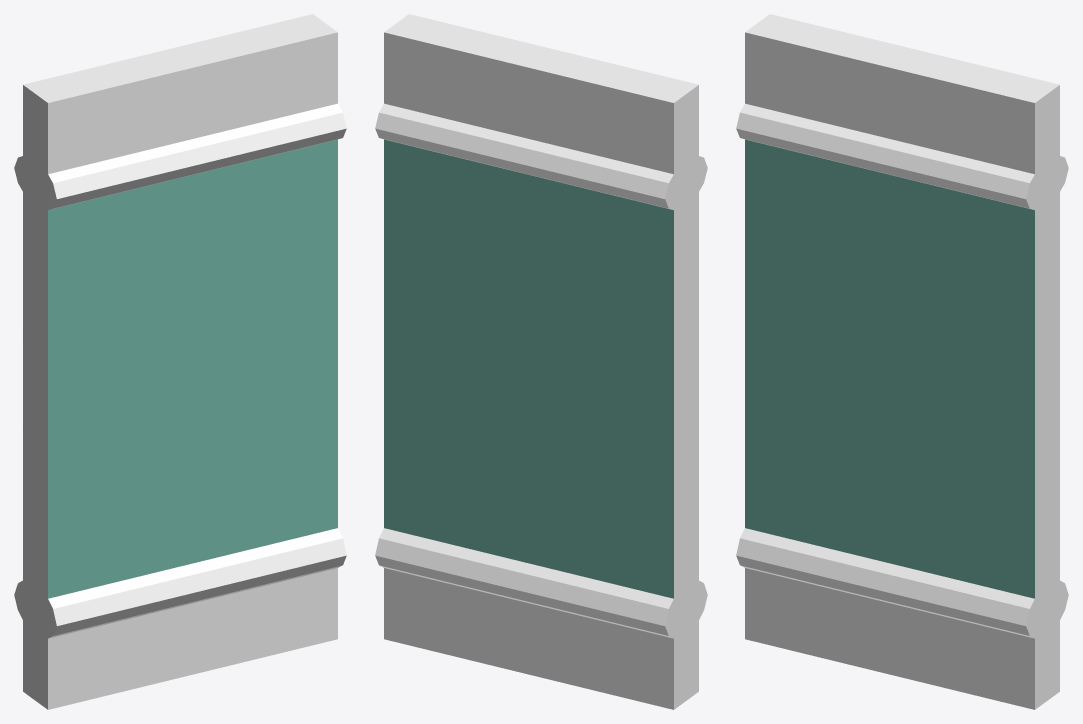
The model's file is FancyWall.glb.
3 views of the same model, side by side, from view 1: azimuth 30°, elevation 25°; view 2: azimuth 150°, elevation 25°; view 3: azimuth 330°, elevation 25° (orthographic).
Visible parts, largest first — view 1: wall_strip; view 2: wall_strip; view 3: wall_strip.
Part boxes in pixels (bbox=[...]): wall_strip: bbox=[14, 14, 346, 709]; wall_strip: bbox=[375, 14, 707, 709]; wall_strip: bbox=[736, 14, 1068, 709].
Size of what is drawn, in the model's own units: 2 by 4 by 0.5109.
1 material, 1 textured.
